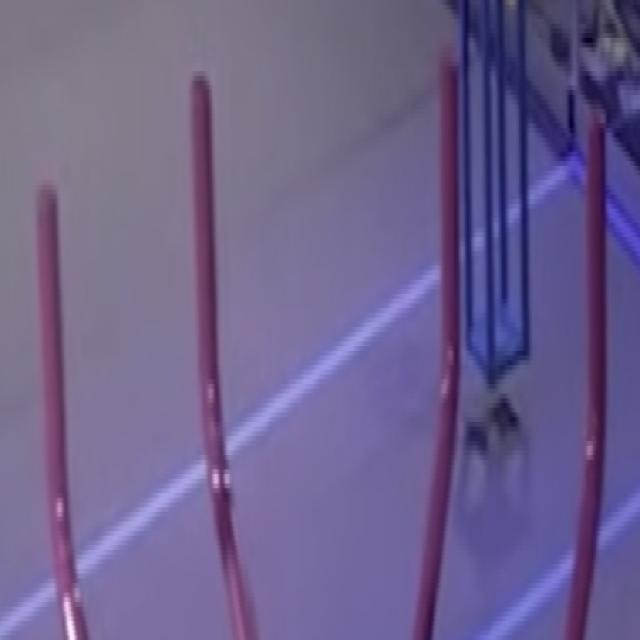Reef: (191, 75, 224, 432), (38, 188, 66, 540), (585, 116, 606, 446), (440, 55, 461, 375)
